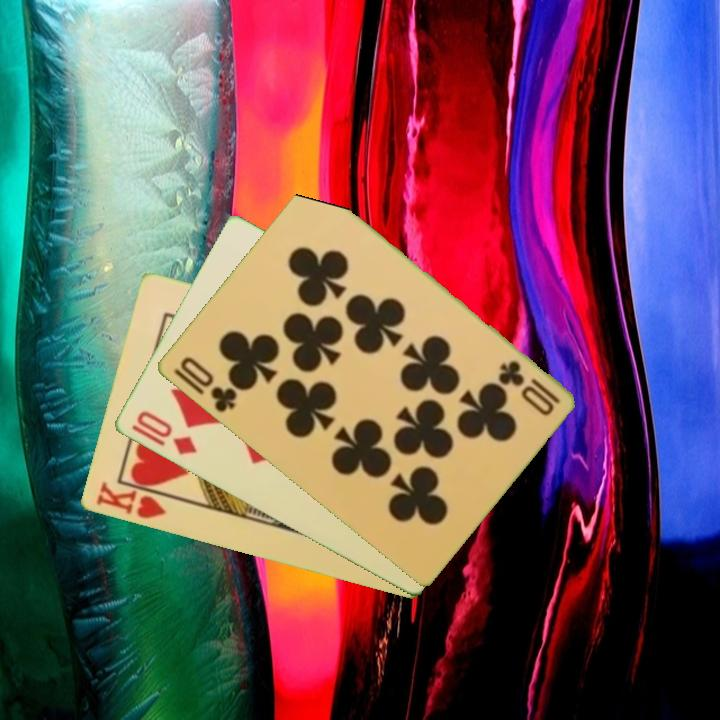10c: (175, 353, 240, 416), (494, 357, 563, 407)
10d: (132, 407, 200, 459)
Kh: (92, 478, 177, 522)
